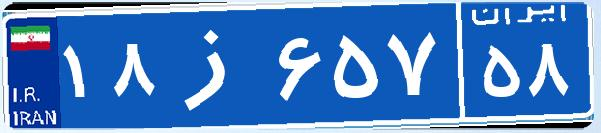1: (57, 26, 110, 107)
5: (330, 28, 385, 110), (475, 38, 525, 113)
6: (273, 28, 330, 110)
7: (385, 28, 445, 110)
8: (110, 28, 158, 105), (525, 38, 570, 115)
ز: (158, 15, 273, 115)
